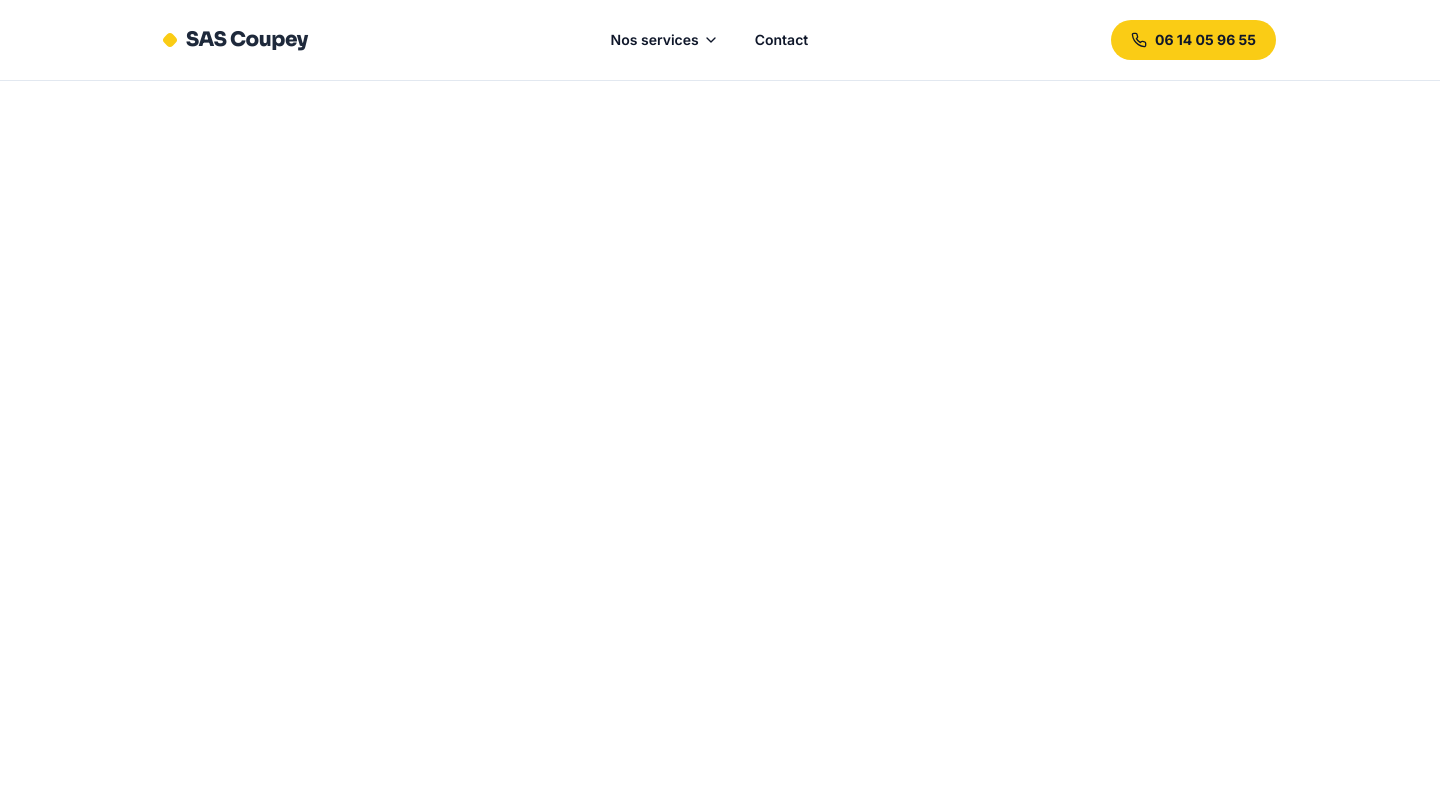
Navbar › clic en dehors : menu déroulant fermé
This screenshot has width=1440, height=810.
Click the button "Nos services": point(665, 40) [595,22,735,58]
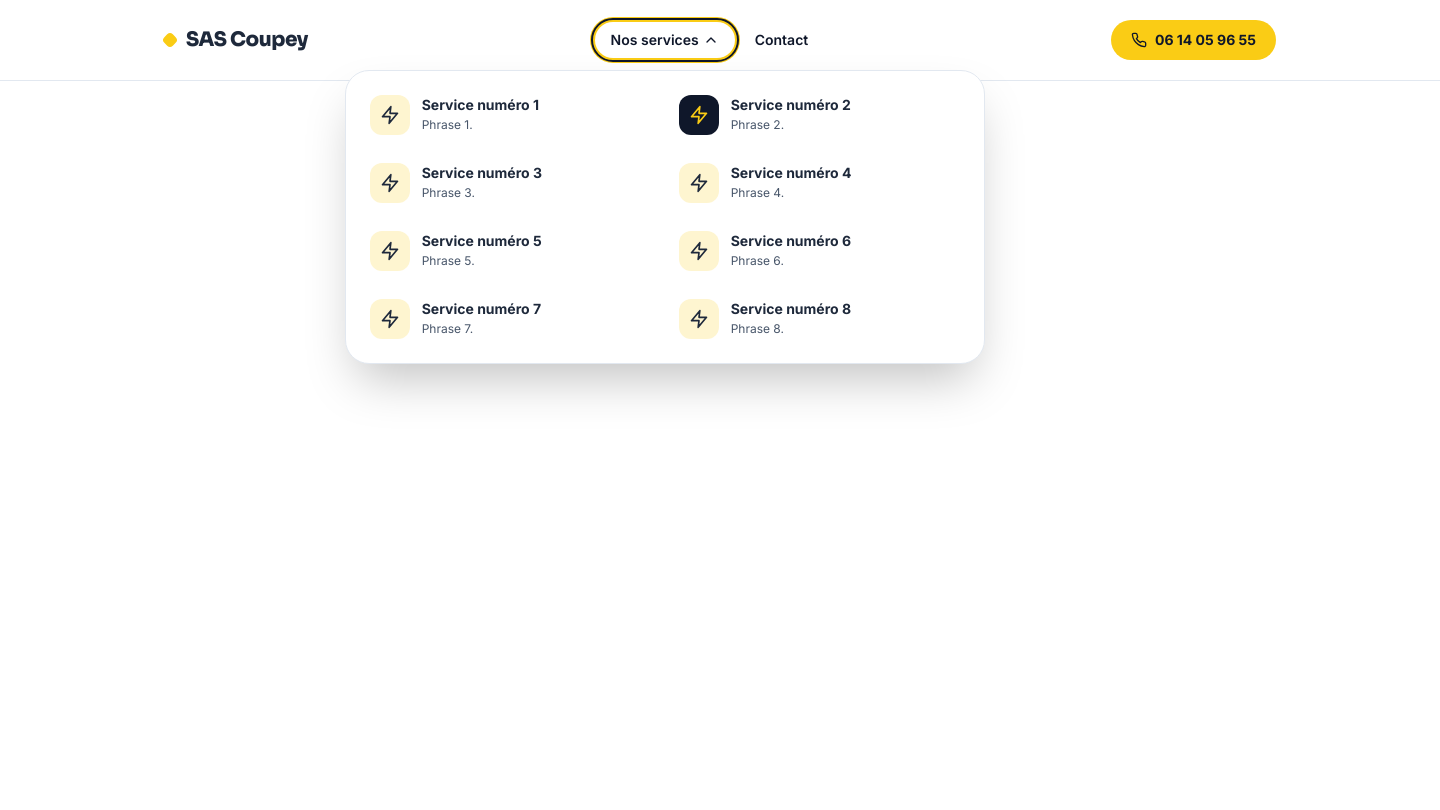
Click the element that starts with "SAS Coupey": point(720, 405) [0,0,1439,809]
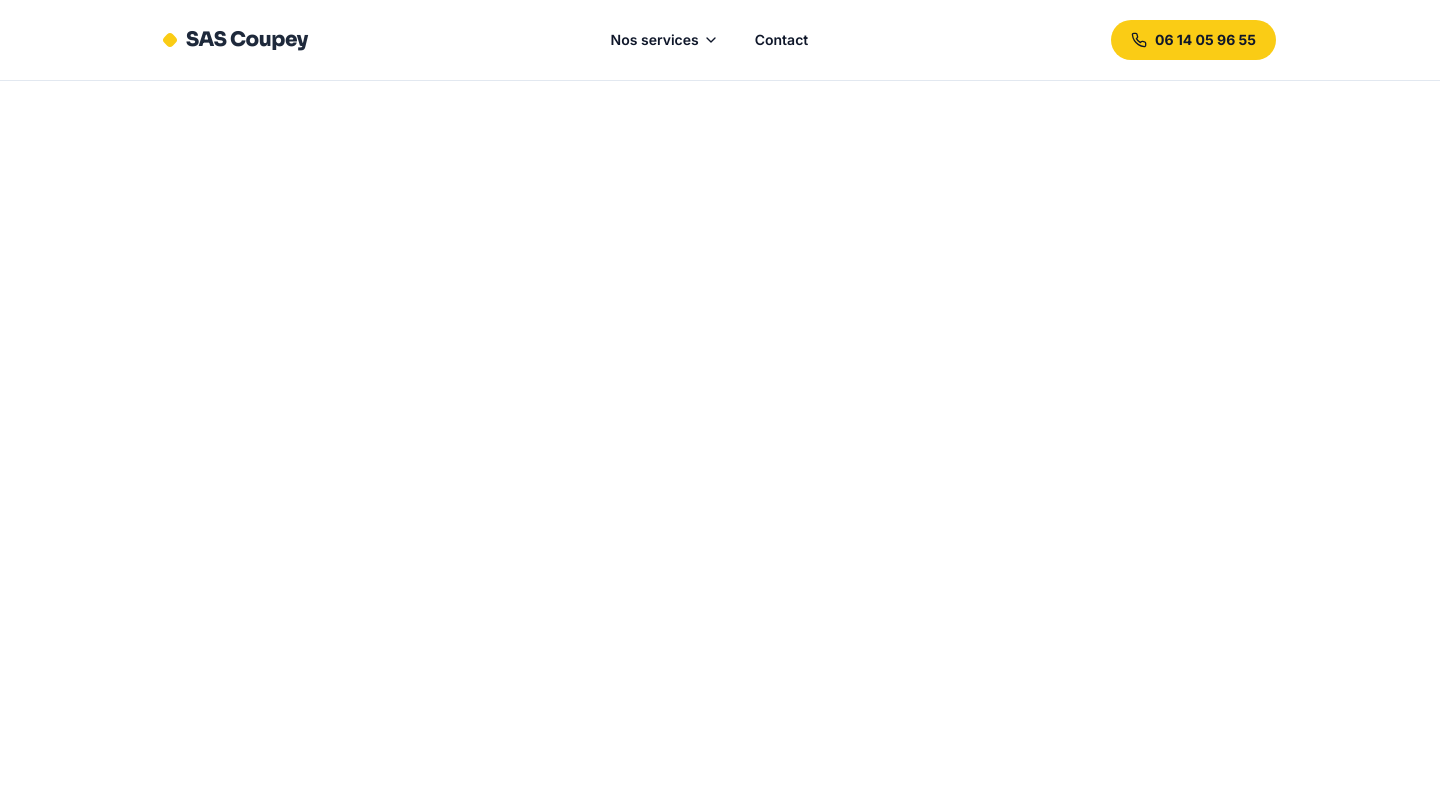
Expected: the button "Nos services" is collapsed, [595,22,735,58]
